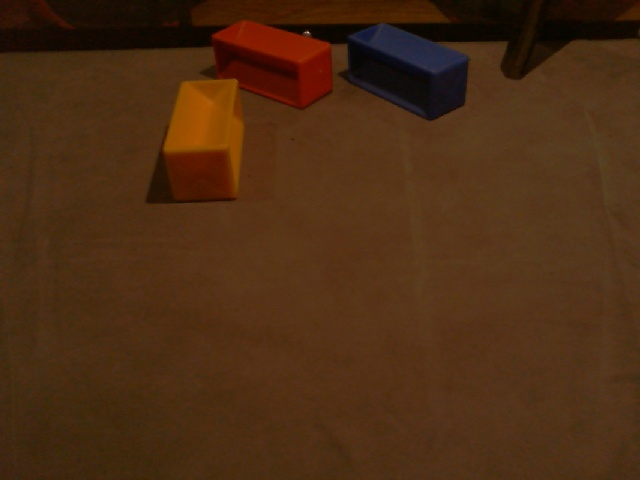BlueSample: (344, 22, 470, 121)
RedSample: (211, 18, 334, 111)
YellowSample: (161, 77, 244, 202)
